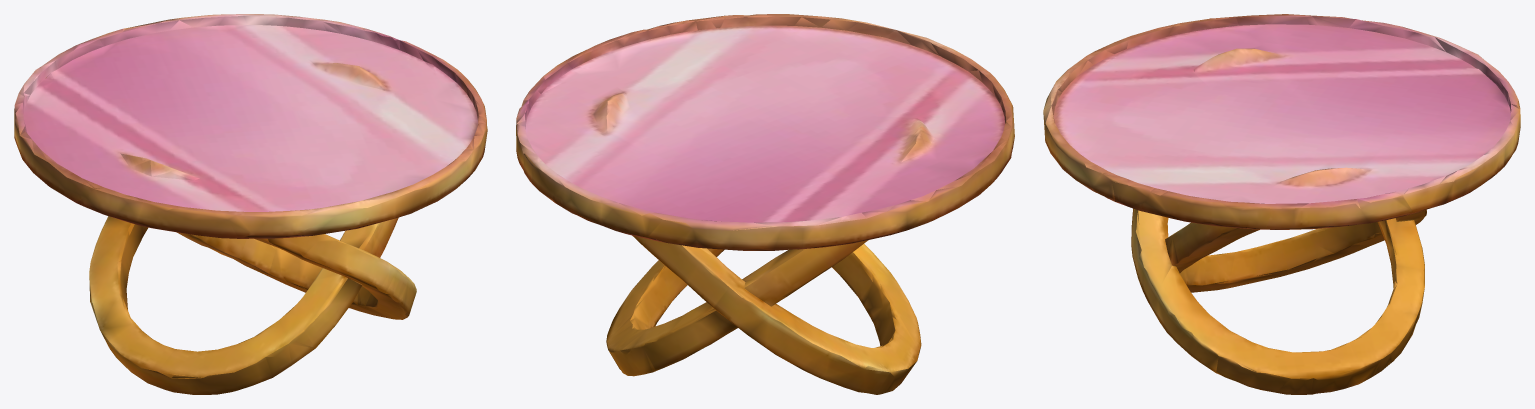
File: table18.glb
3 renders of one model, left to right at view 1: azimuth 30°, elevation 25°; view 2: azimuth 150°, elevation 25°; view 3: azimuth 270°, elevation 25°, orthographic. The views are drawn at different scales.
Size of the model in its own units: 0.2277 by 0.1264 by 0.2364.
Materials: 1 (1 with a texture image).
